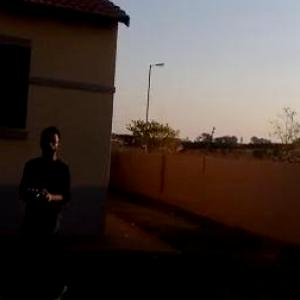follow: (9, 119, 86, 299)
